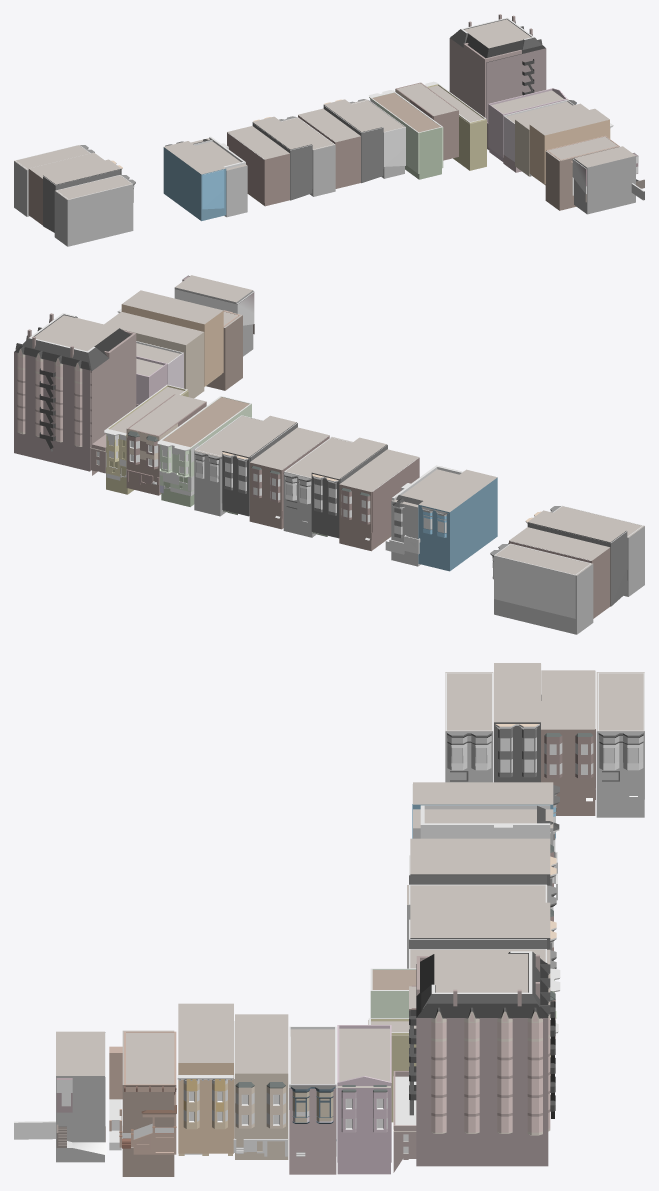
The model's file is city_west14.dae.
The picture shows the model from 3 angles, top to bottom: view 1: azimuth 30°, elevation 25°; view 2: azimuth 150°, elevation 25°; view 3: azimuth 270°, elevation 25°; orthographic projection. The views are drawn at different scales.
Parts seen in each view (by area): view 1: city_west14_a1000, city_west14_a1500; view 2: city_west14_a1000, city_west14_a1500; view 3: city_west14_a1000, city_west14_a1500.
Boxes of the visible parts, bbox=[...] form: city_west14_a1000: bbox=[14, 19, 635, 246]; city_west14_a1500: bbox=[15, 14, 644, 232]; city_west14_a1000: bbox=[14, 275, 644, 634]; city_west14_a1500: bbox=[15, 275, 642, 618]; city_west14_a1000: bbox=[56, 663, 644, 1176]; city_west14_a1500: bbox=[14, 664, 644, 1172].
Bounding box in the file's own units: 172 × 107 × 36.08.
